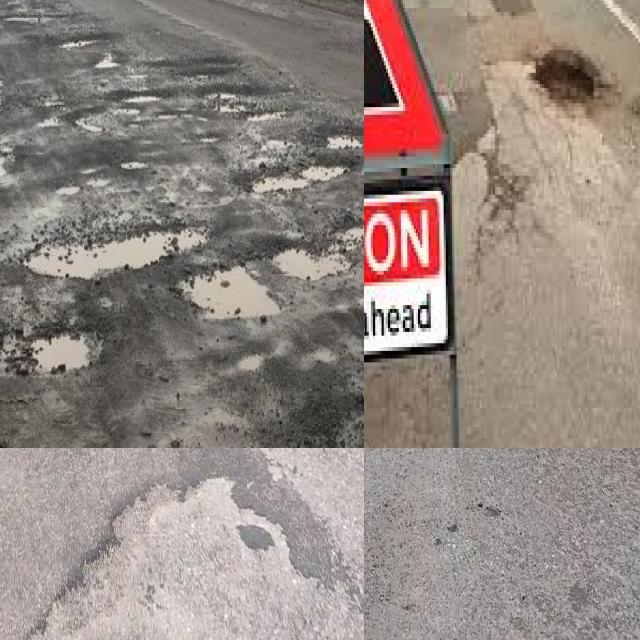Pothole: (24, 468, 364, 640), (61, 138, 364, 279), (190, 267, 279, 321), (536, 50, 611, 107), (273, 241, 353, 282)
